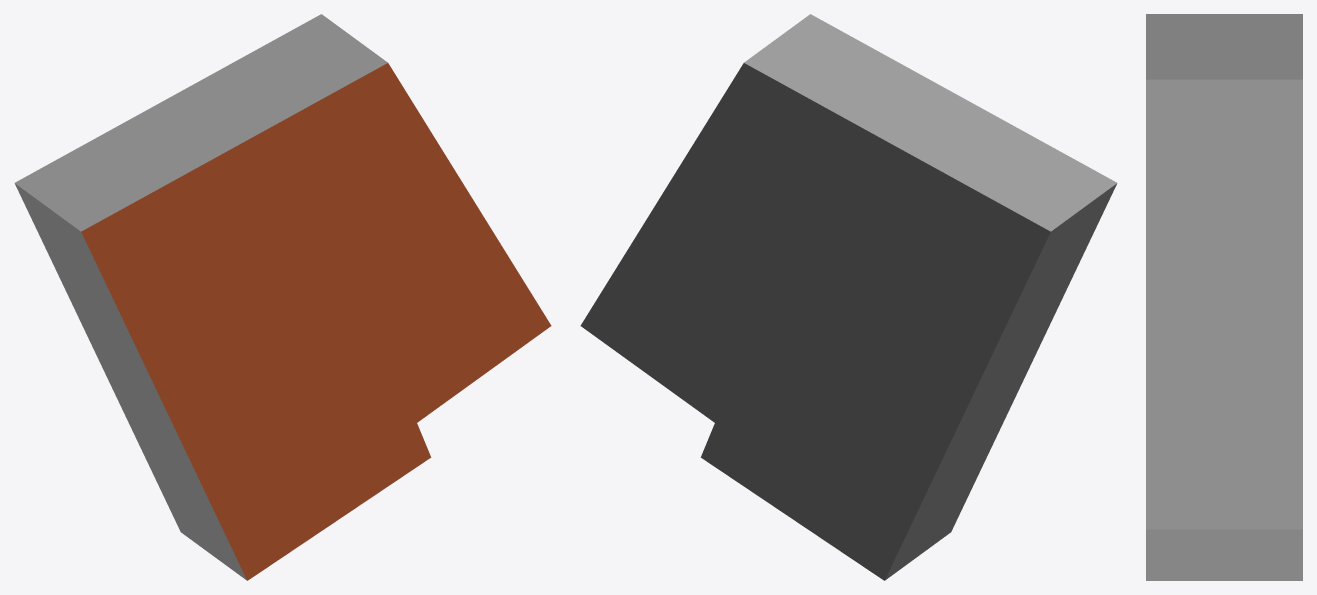
Rendered from construction_4603_assumed_A_Casa_h6m.obj.
The picture shows the model from 3 angles, left to right: view 1: azimuth 30°, elevation 25°; view 2: azimuth 150°, elevation 25°; view 3: azimuth 270°, elevation 25°; orthographic projection. The views are drawn at different scales.
Parts seen in each view (by area): view 1: construction_4603_assumed_A_Casa; view 2: construction_4603_assumed_A_Casa; view 3: construction_4603_assumed_A_Casa.
Boxes of the visible parts, left/top/right/bottom form: construction_4603_assumed_A_Casa: left=14, top=14, right=551, bottom=580; construction_4603_assumed_A_Casa: left=580, top=14, right=1117, bottom=580; construction_4603_assumed_A_Casa: left=1146, top=14, right=1302, bottom=580.
Bounding box in the file's own units: 24.45 × 24.03 × 6.
